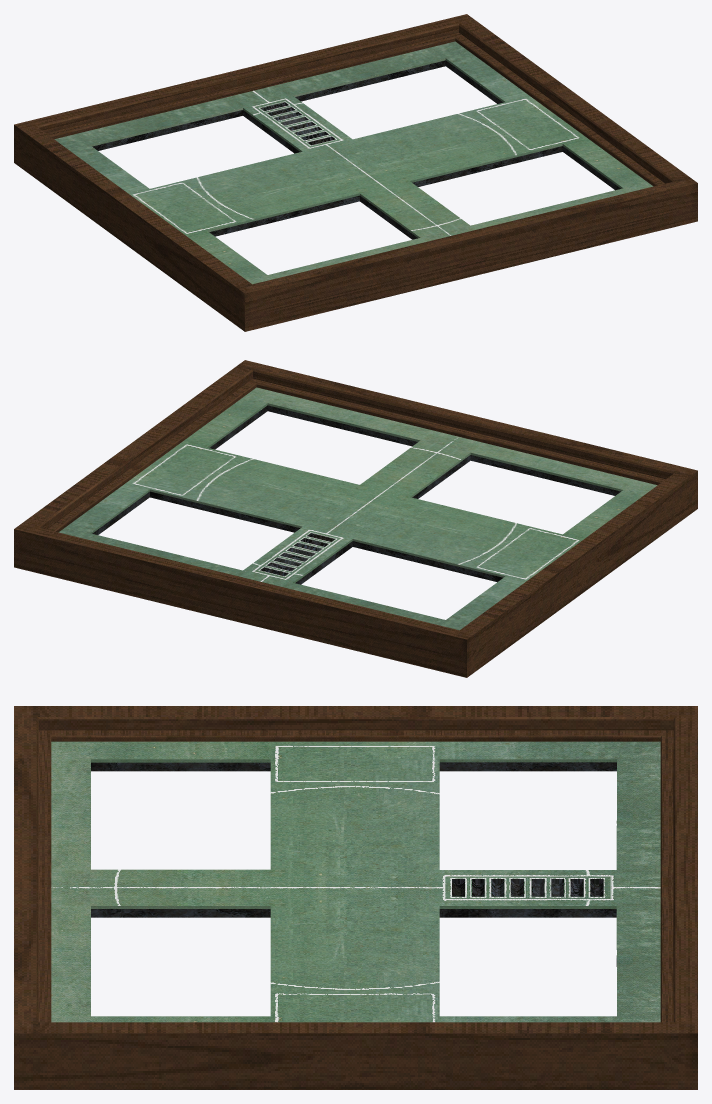
Rendered from tabletop compartment origins fix2.glb.
The picture shows the model from 3 angles, top to bottom: view 1: azimuth 30°, elevation 25°; view 2: azimuth 150°, elevation 25°; view 3: azimuth 270°, elevation 25°; orthographic projection. The views are drawn at different scales.
Parts seen in each view (by area): view 1: main tabletop, compartment user_briefcase, compartment enemy_briefcase, compartment_shells; view 2: main tabletop, compartment user_briefcase, compartment enemy_briefcase, compartment_shells; view 3: main tabletop, compartment enemy_briefcase, compartment user_briefcase, compartment_shells.
Part boxes in pixels (box(x1,y1,x2,y2)): main tabletop: box(14, 14, 697, 331); compartment user_briefcase: box(473, 97, 582, 151); compartment enemy_briefcase: box(130, 181, 238, 234); compartment_shells: box(249, 97, 346, 149); main tabletop: box(14, 360, 697, 677); compartment user_briefcase: box(130, 443, 239, 496); compartment enemy_briefcase: box(474, 527, 582, 580); compartment_shells: box(249, 528, 346, 581); main tabletop: box(14, 706, 697, 1089); compartment enemy_briefcase: box(273, 744, 436, 783); compartment user_briefcase: box(273, 991, 436, 1022); compartment_shells: box(439, 874, 616, 901).
Bounding box in the file's own units: 22.69 × 1.83 × 20.04.
Materials: 7 (7 with a texture image).
